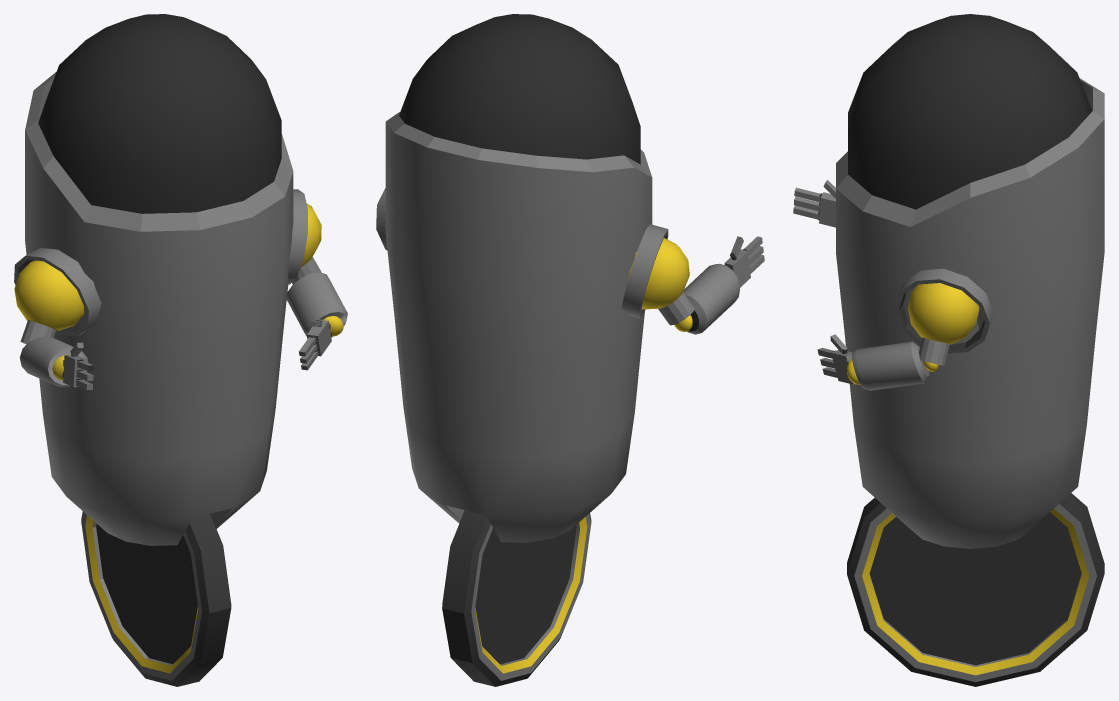
Rendered from characterModelBackup.fbx.
3 renders of one model, left to right at view 1: azimuth 30°, elevation 25°; view 2: azimuth 150°, elevation 25°; view 3: azimuth 270°, elevation 25°, orthographic.
Parts seen in each view (by area): view 1: PlayerCharacter; view 2: PlayerCharacter; view 3: PlayerCharacter.
Boxes of the visible parts, left/top/right/bottom form: PlayerCharacter: left=14, top=14, right=347, bottom=686; PlayerCharacter: left=376, top=14, right=764, bottom=686; PlayerCharacter: left=793, top=14, right=1104, bottom=686.
Size of the model in its own units: 85.92 by 73.33 by 170.
